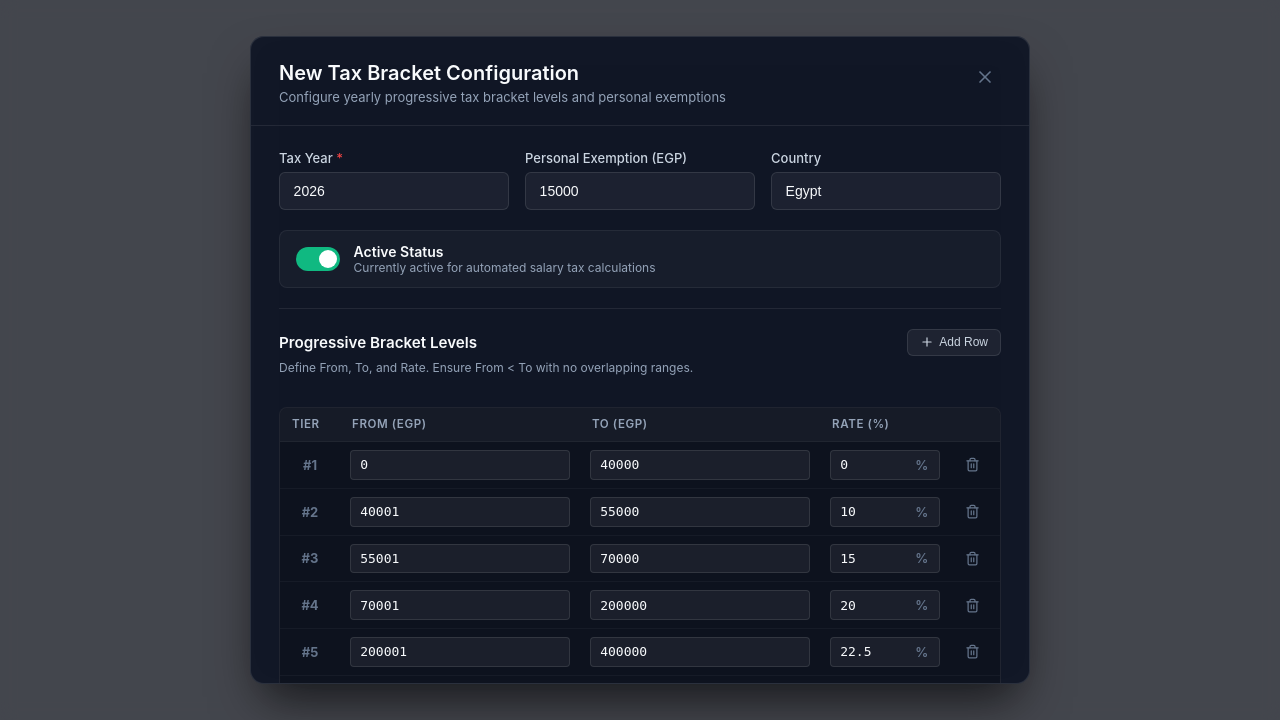
Test case: TaxConfigModal Component › renders create mode with default fields and allows adding bracket tier
Check: the heading "New Tax Bracket Configuration" is shown, box x1=279 y1=61 x2=579 y2=85
What coordinates should you click on to do the following:
click the button "Add Row"
I would click on:
 (954, 342)
Its box is x1=907 y1=329 x2=1001 y2=356.
(page scrolled)
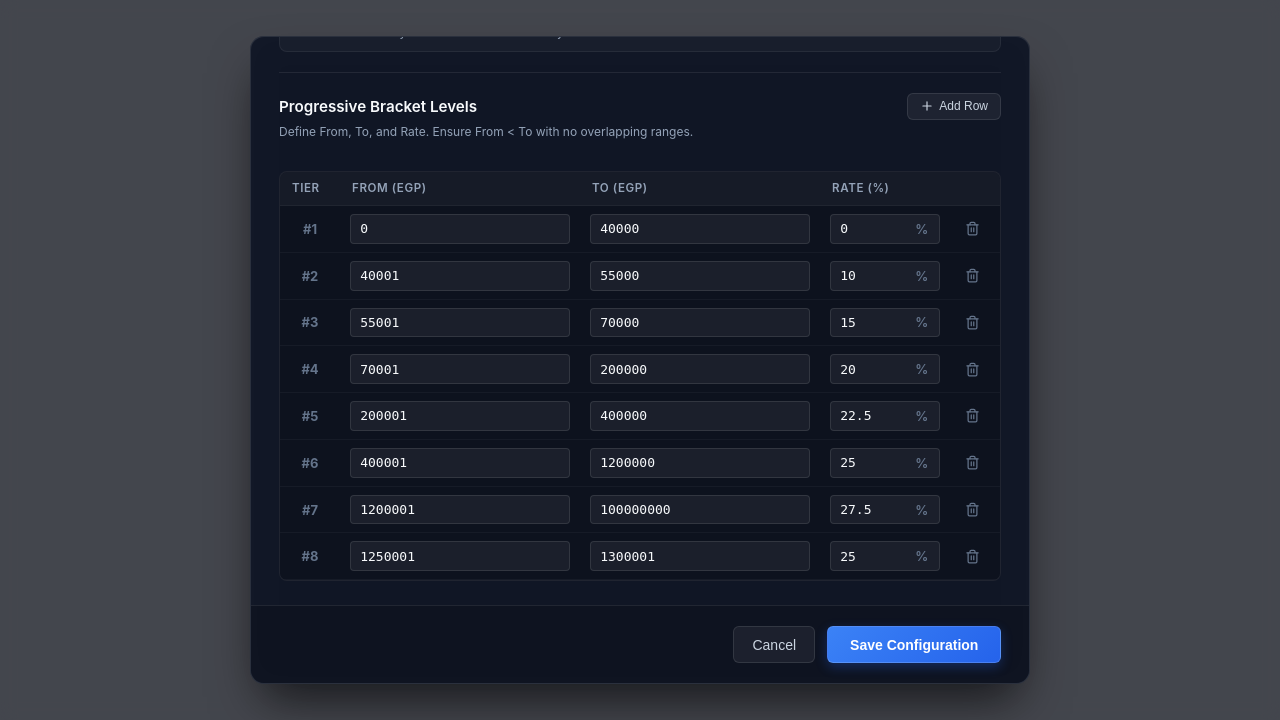
Check: the text "#8" is shown, box x1=280 y1=533 x2=340 y2=580
